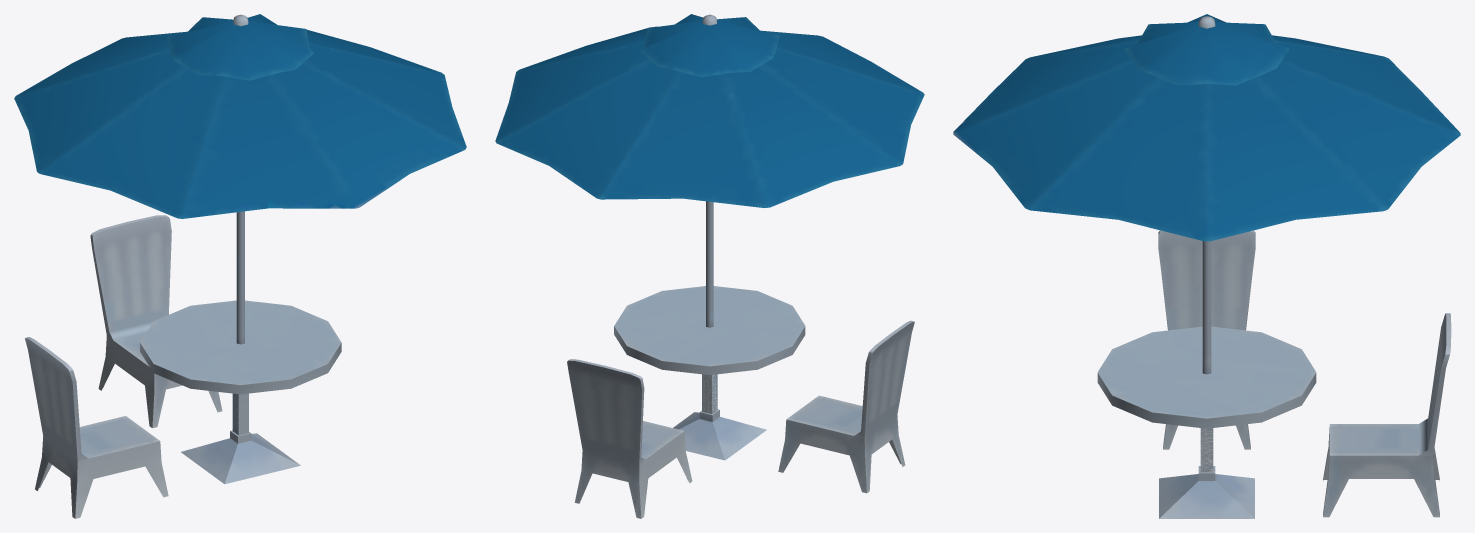
The model's file is objects_un_c02table01.gltf.
The picture shows the model from 3 angles, left to right: view 1: azimuth 30°, elevation 25°; view 2: azimuth 150°, elevation 25°; view 3: azimuth 270°, elevation 25°; orthographic projection. The views are drawn at different scales.
Parts seen in each view (by area): view 1: um_objects_un_c02table01_model_lod0Shape:objects_un_c02table (×2); view 2: um_objects_un_c02table01_model_lod0Shape:objects_un_c02table (×2); view 3: um_objects_un_c02table01_model_lod0Shape:objects_un_c02table (×2).
Part boxes in pixels (x1,y1,x2,y2): um_objects_un_c02table01_model_lod0Shape:objects_un_c02table (×2): [14, 14, 466, 518]; um_objects_un_c02table01_model_lod0Shape:objects_un_c02table (×2): [495, 14, 924, 518]; um_objects_un_c02table01_model_lod0Shape:objects_un_c02table (×2): [953, 14, 1460, 518].
Size of what is drawn, in the model's own units: 2.73 by 2.86 by 2.73.
Materials: 3 (2 with a texture image).
